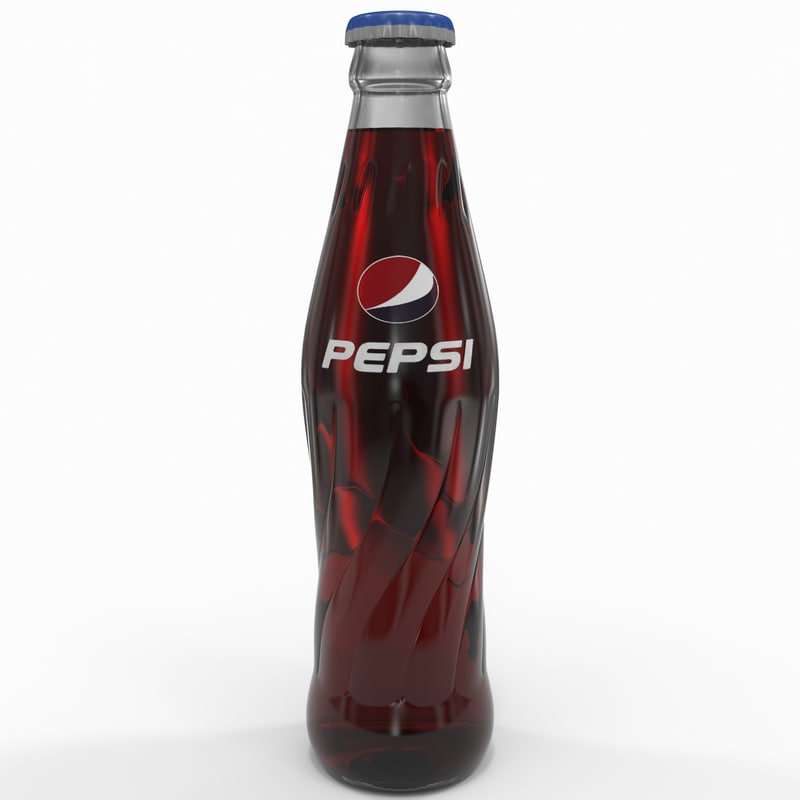pepsi: (356, 252, 439, 322)
